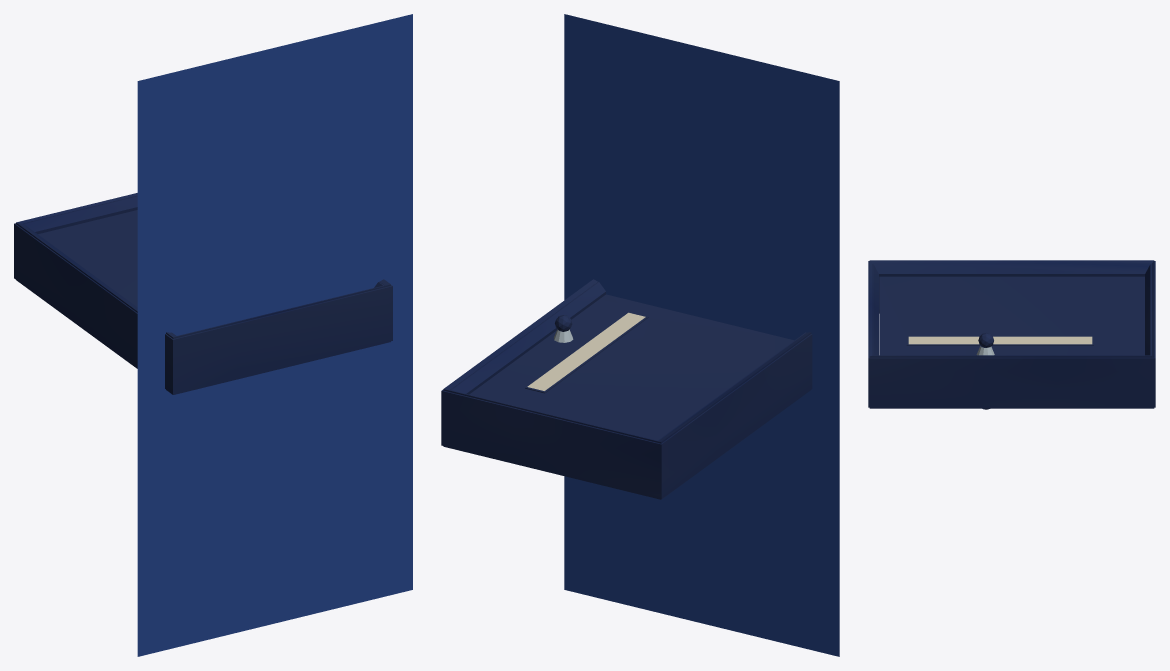
File: RealRoomDoor_WorkingRoom.fbx
3 renders of one model, left to right at view 1: azimuth 30°, elevation 25°; view 2: azimuth 150°, elevation 25°; view 3: azimuth 270°, elevation 25°, orthographic. The views are drawn at different scales.
Parts seen in each view (by area): view 1: Plane.301, menkuang.007, door.018; view 2: Plane.301, menkuang.007, door.018; view 3: menkuang.007, door.018.
Part boxes in pixels (<box>): Plane.301: <box>137,14,412,656</box>; menkuang.007: <box>14,193,392,394</box>; door.018: <box>38,210,137,306</box>; Plane.301: <box>564,14,839,656</box>; menkuang.007: <box>441,279,812,499</box>; door.018: <box>469,294,794,440</box>; menkuang.007: <box>868,260,1155,408</box>; door.018: <box>879,276,1144,409</box>.
Bounding box in the file's own units: 2 × 4 × 2.
